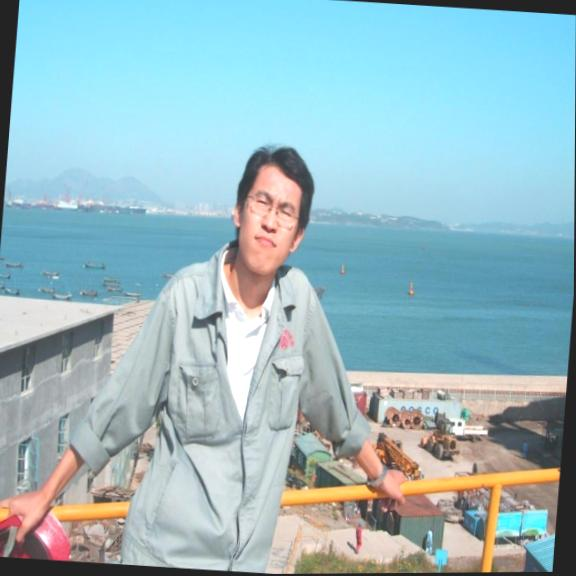no_safety_vest: (90, 259, 347, 575)
